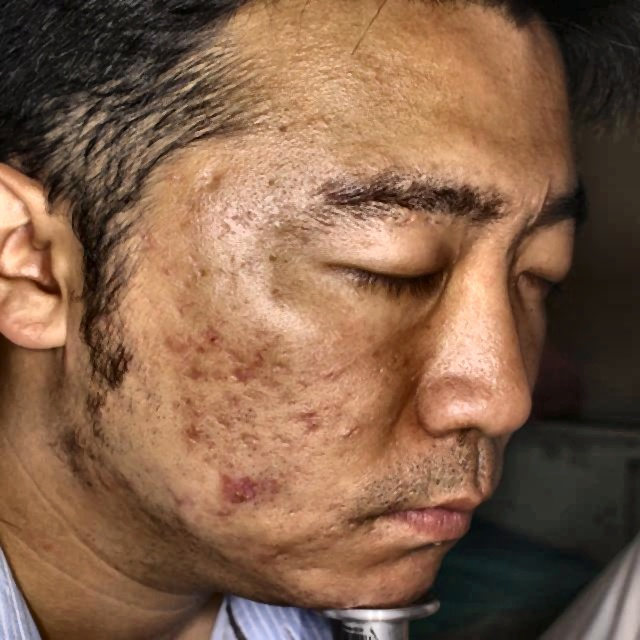pustule: (230, 469, 294, 514), (290, 400, 333, 448), (164, 486, 207, 520), (176, 424, 217, 451), (226, 356, 259, 378), (194, 327, 227, 346)
